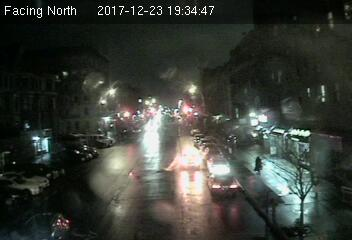car: (207, 170, 238, 196), (207, 156, 230, 175)
pedestrian: (252, 155, 264, 176)
